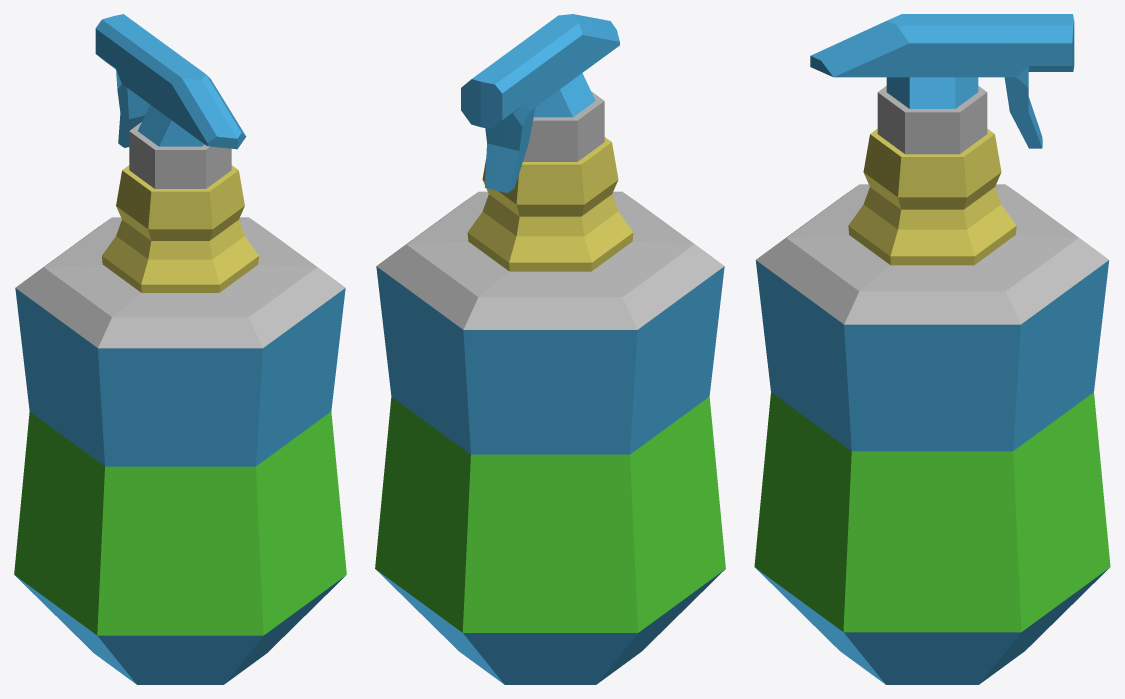
File: pesticida.fbx
3 renders of one model, left to right at view 1: azimuth 30°, elevation 25°; view 2: azimuth 150°, elevation 25°; view 3: azimuth 270°, elevation 25°, orthographic. The views are drawn at different scales.
Visible parts, largest first — view 1: insecticida; view 2: insecticida; view 3: insecticida.
Part boxes in pixels (x1,y1,x2,y2): insecticida: (14,14,346,684); insecticida: (375,14,725,684); insecticida: (754,14,1110,684).
Size of the model in its own units: 15.16 by 34.19 by 17.51.
